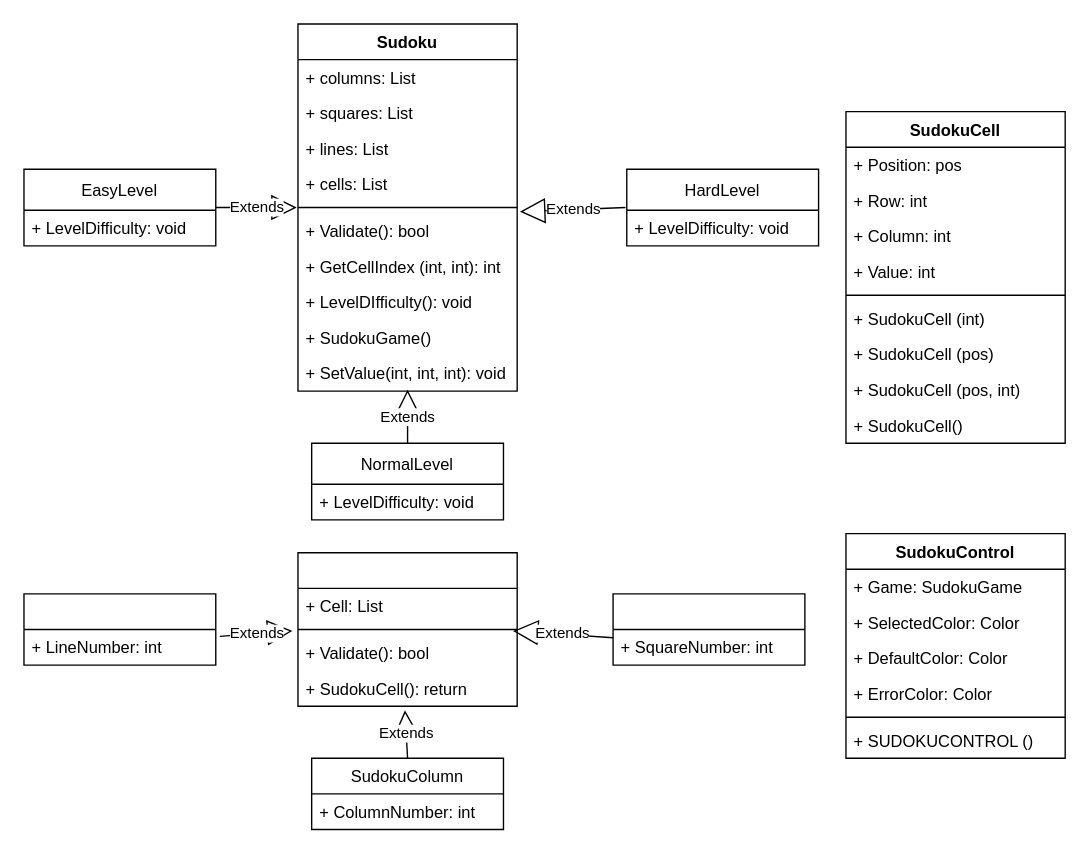
The diagram is 1089 pixels wide and 858 high, and some of its shapes have lost their labels. The box of each missing label's shape, as (x1, y1, x2, y2) in pixels:
SudokuCellGroup: (297, 551, 517, 706)
SudokuLine: (23, 593, 216, 665)
SudokuSquare: (612, 593, 805, 665)
